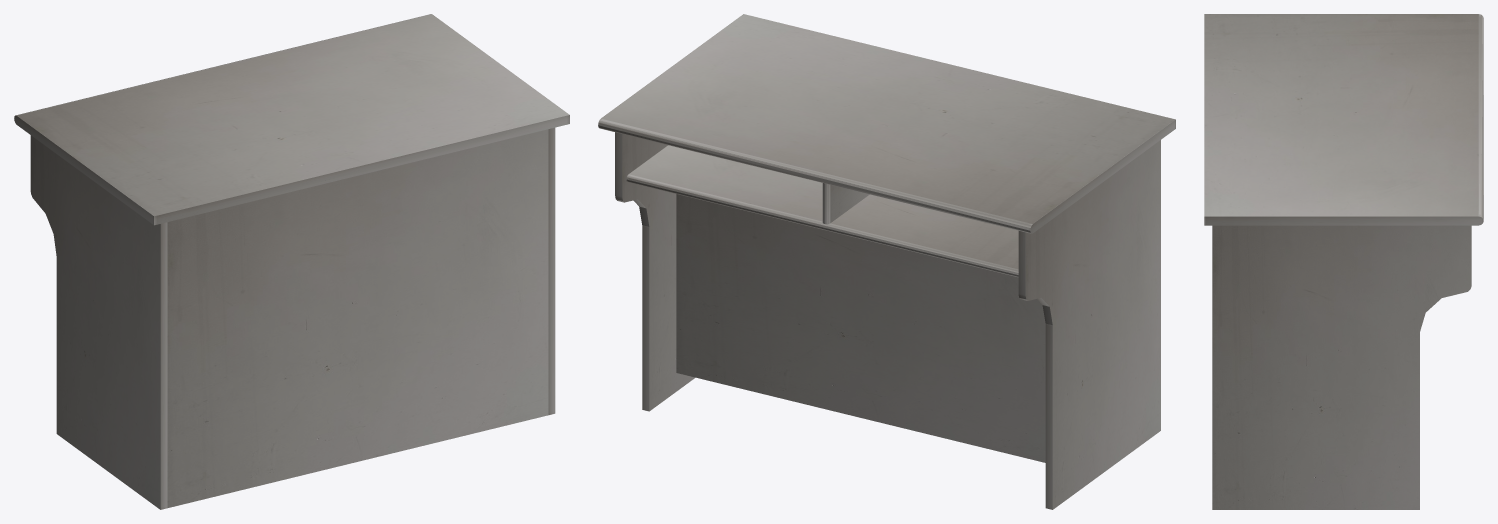
File: kezuo.FBX
The picture shows the model from 3 angles, left to right: view 1: azimuth 30°, elevation 25°; view 2: azimuth 150°, elevation 25°; view 3: azimuth 270°, elevation 25°; orthographic projection. The views are drawn at different scales.
Parts seen in each view (by area): view 1: Layer:图层6, Layer:图层2, Layer:图层1, Layer:图层7; view 2: Layer:图层2, Layer:图层5, Layer:图层1, Layer:图层3, Layer:图层7, Layer:图层4; view 3: Layer:图层7, Layer:图层2.
Part boxes in pixels (x1=…): Layer:图层6: x1=167, y1=129, x2=548, y2=508; Layer:图层2: x1=14, y1=14, x2=569, y2=225; Layer:图层1: x1=30, y1=135, x2=167, y2=509; Layer:图层7: x1=548, y1=127, x2=555, y2=414; Layer:图层2: x1=598, y1=14, x2=1175, y2=233; Layer:图层5: x1=676, y1=194, x2=1045, y2=462; Layer:图层1: x1=1018, y1=140, x2=1160, y2=509; Layer:图层3: x1=626, y1=145, x2=1018, y2=277; Layer:图层7: x1=615, y1=132, x2=694, y2=411; Layer:图层4: x1=822, y1=183, x2=869, y2=224; Layer:图层7: x1=1212, y1=225, x2=1471, y2=509; Layer:图层2: x1=1204, y1=14, x2=1483, y2=225.
Bounding box in the file's own units: 120 × 82.5 × 70.
Materials: 1 (1 with a texture image).
